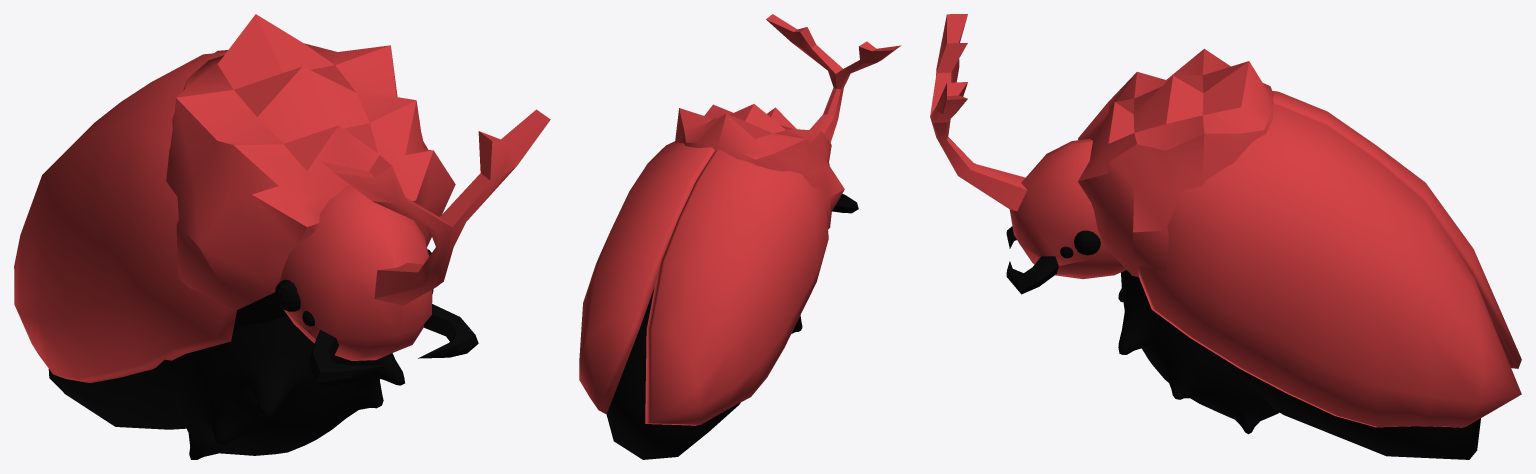
Rendered from Scarab Red.fbx.
The picture shows the model from 3 angles, left to right: view 1: azimuth 30°, elevation 25°; view 2: azimuth 150°, elevation 25°; view 3: azimuth 270°, elevation 25°; orthographic projection. The views are drawn at different scales.
Parts seen in each view (by area): view 1: Cube.003, Plane.001, Cube.001, Cube.002, Cube, Cube.005; view 2: Plane.001, Plane, Cube.003, Cube, Cube.001; view 3: Plane, Cube.003, Cube.001, Cube.002, Cube, Plane.001.
Part boxes in pixels (x1,y1,x2,y2): Cube.003: [166, 14, 455, 309]; Plane.001: [14, 52, 236, 383]; Cube.001: [279, 109, 550, 387]; Cube.002: [174, 316, 404, 459]; Cube: [48, 292, 287, 429]; Cube.005: [274, 249, 431, 311]; Plane.001: [645, 149, 828, 425]; Plane: [579, 141, 714, 414]; Cube.003: [675, 104, 844, 229]; Cube: [606, 287, 740, 459]; Cube.001: [766, 14, 901, 213]; Plane: [1138, 104, 1521, 427]; Cube.003: [1078, 48, 1273, 277]; Cube.001: [930, 14, 1126, 294]; Cube.002: [1118, 270, 1279, 434]; Cube: [1136, 276, 1480, 459]; Plane.001: [1272, 91, 1521, 368].
Size of the model in its own units: 242 by 113 by 178.
